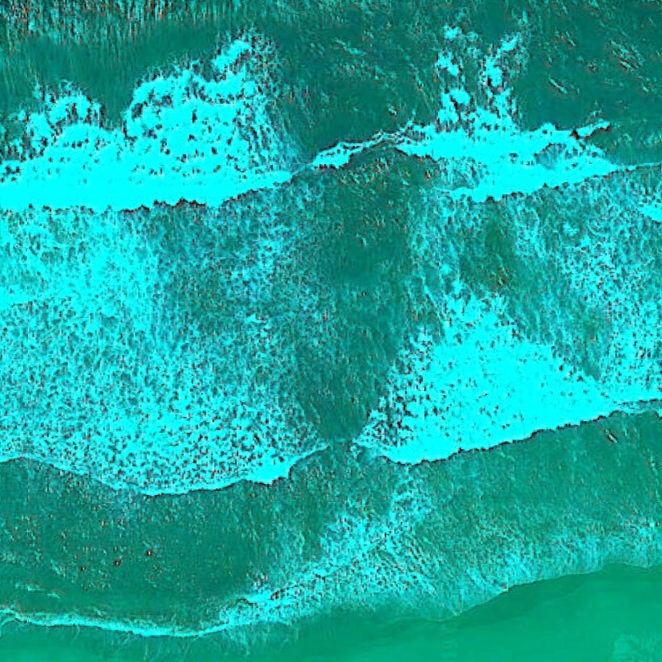rip_current: (166, 87, 432, 481)
